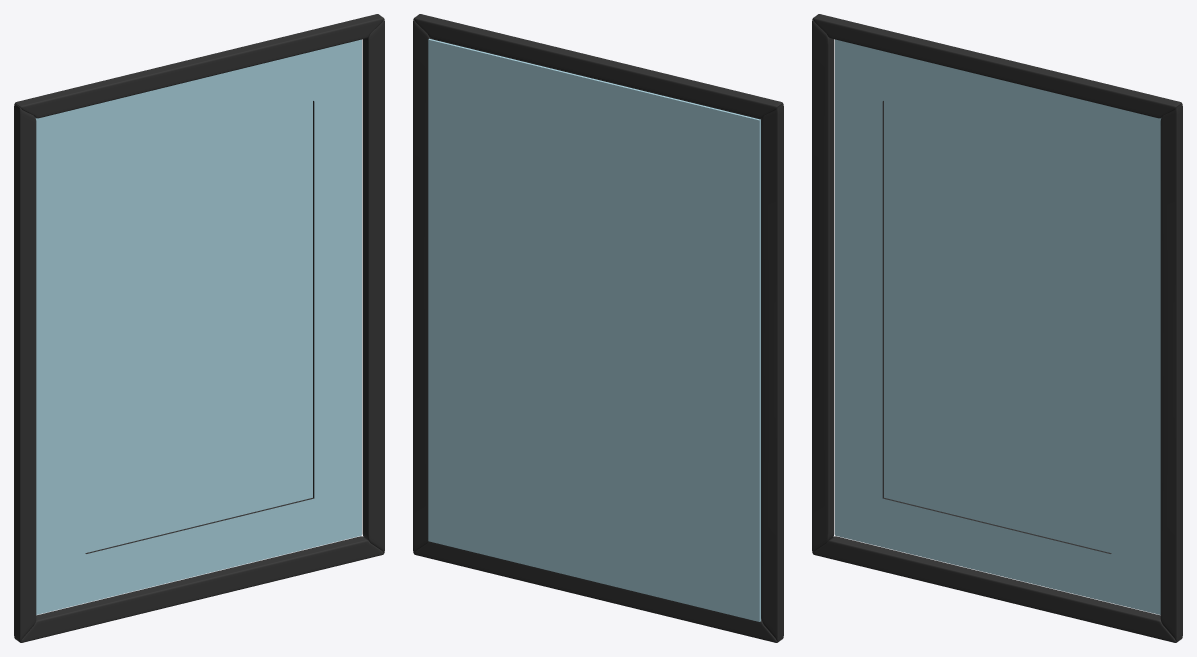
File: VP_Picture_Frames_06.FBX
3 renders of one model, left to right at view 1: azimuth 30°, elevation 25°; view 2: azimuth 150°, elevation 25°; view 3: azimuth 330°, elevation 25°, orthographic.
Parts seen in each view (by area): view 1: VP_Picture_Frames_06; view 2: VP_Picture_Frames_06; view 3: VP_Picture_Frames_06.
Boxes of the visible parts, box(x1,y1,x2,y2) form: VP_Picture_Frames_06: box(14, 14, 384, 642); VP_Picture_Frames_06: box(413, 14, 783, 642); VP_Picture_Frames_06: box(812, 14, 1182, 642).
Size of what is drawn, in the model's own units: 62.21 by 2.25 by 87.42.
